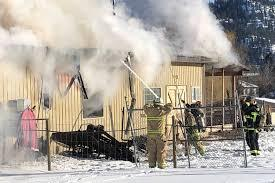smoke: (8, 1, 119, 58), (173, 5, 219, 58), (133, 35, 162, 72)
